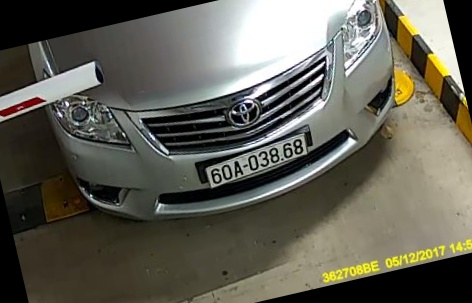plate: (203, 136, 315, 184)
